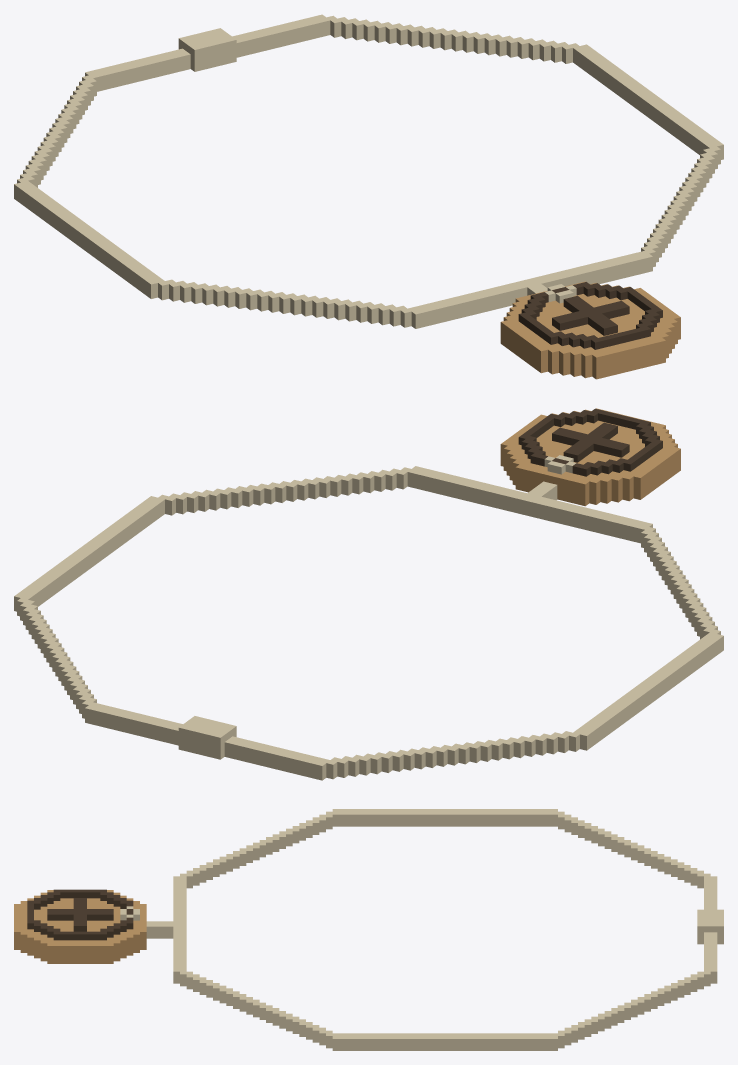
The model's file is holy_symbol_wood.glb.
The picture shows the model from 3 angles, top to bottom: view 1: azimuth 30°, elevation 25°; view 2: azimuth 150°, elevation 25°; view 3: azimuth 270°, elevation 25°; orthographic projection. The views are drawn at different scales.
Parts seen in each view (by area): view 1: holy_symbol_wood:compound; view 2: holy_symbol_wood:compound; view 3: holy_symbol_wood:compound.
Boxes of the visible parts, x1=… form: holy_symbol_wood:compound: x1=14, y1=14, x2=723, y2=379; holy_symbol_wood:compound: x1=14, y1=408, x2=723, y2=780; holy_symbol_wood:compound: x1=14, y1=809, x2=723, y2=1050.
Size of the model in its own units: 0.164 by 0.008 by 0.214.
